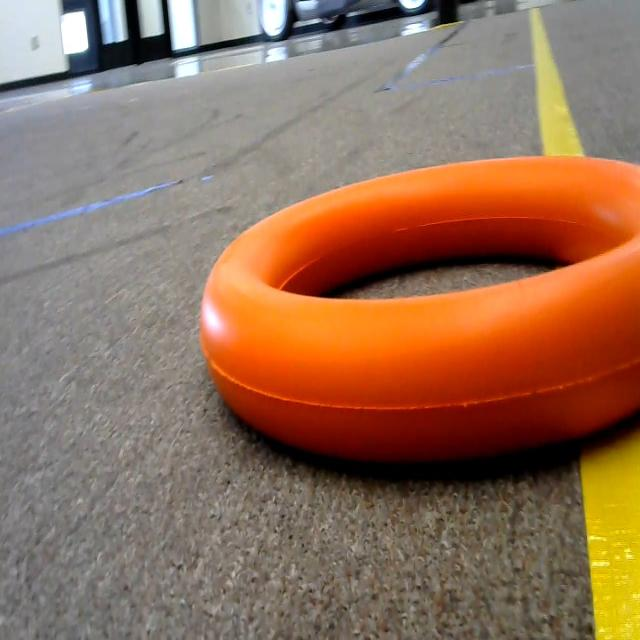note: (203, 150, 640, 484)
